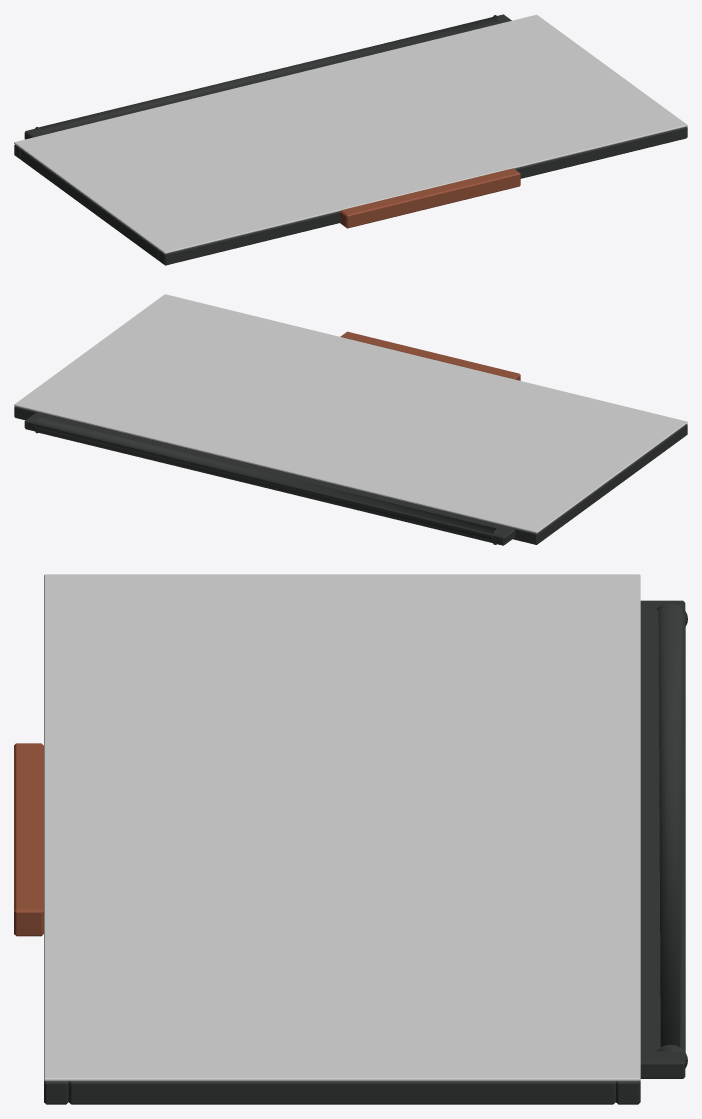
File: dual_compartment_bin_squat_lid.glb
3 views of the same model, one above another, from view 1: azimuth 30°, elevation 25°; view 2: azimuth 150°, elevation 25°; view 3: azimuth 270°, elevation 25° (orthographic). The views are drawn at different scales.
Visible parts, largest first — view 1: dual_compartment_bin_squat_lid; view 2: dual_compartment_bin_squat_lid; view 3: dual_compartment_bin_squat_lid.
Boxes of the visible parts, <box> form: dual_compartment_bin_squat_lid: <box>14,14,687,265</box>; dual_compartment_bin_squat_lid: <box>14,294,687,545</box>; dual_compartment_bin_squat_lid: <box>14,574,687,1104</box>.
Size of the model in its own units: 0.48 by 0.014 by 0.271.
